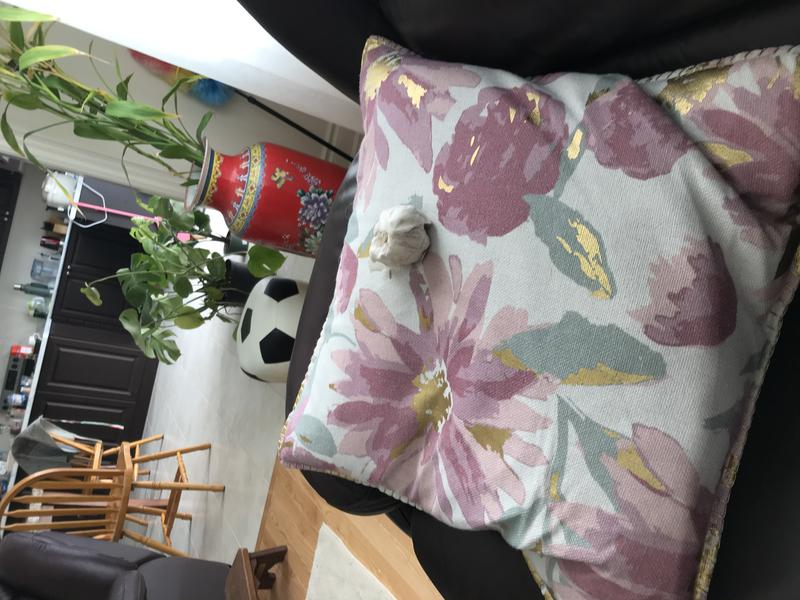garlic: (370, 204, 441, 270)
